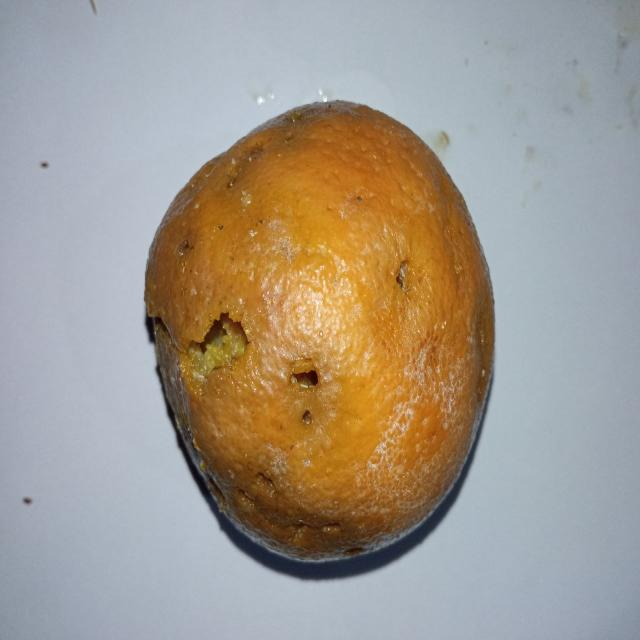rotten_orange: (141, 100, 491, 561)
